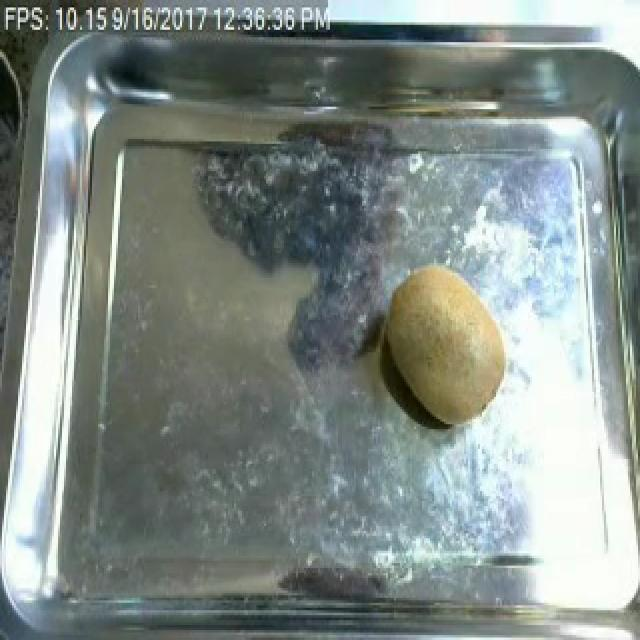Fruit: (376, 258, 518, 437)
